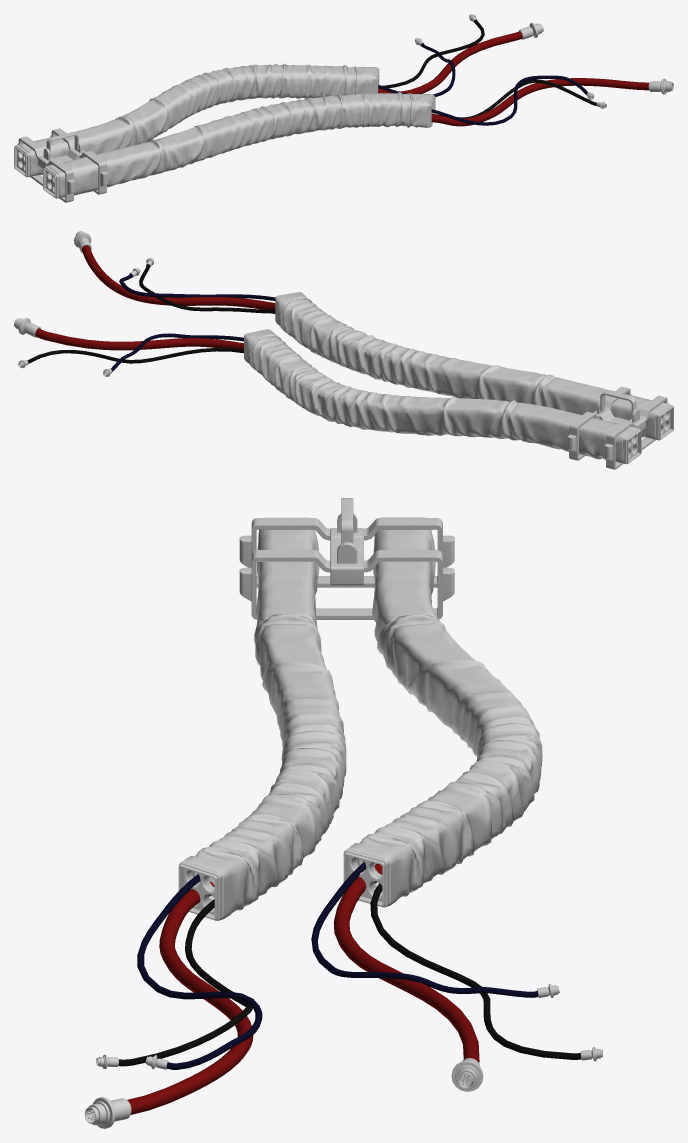
The model's file is SM_Wire02_LineStyle01.FBX.
3 views of the same model, one above another, from view 1: azimuth 30°, elevation 25°; view 2: azimuth 150°, elevation 25°; view 3: azimuth 270°, elevation 25° (orthographic). The views are drawn at different scales.
Parts seen in each view (by area): view 1: SM_Wire02_LineStyle01; view 2: SM_Wire02_LineStyle01; view 3: SM_Wire02_LineStyle01.
Part boxes in pixels (<box>): SM_Wire02_LineStyle01: <box>14,14,673,202</box>; SM_Wire02_LineStyle01: <box>14,231,673,469</box>; SM_Wire02_LineStyle01: <box>84,498,603,1128</box>.
Bounding box in the file's own units: 311 × 121 × 23.74.
